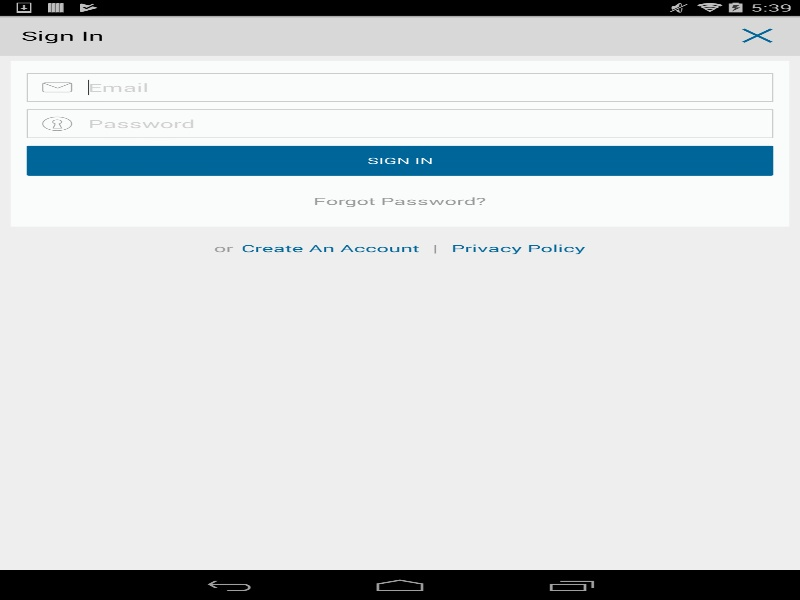Button: (26, 145, 773, 175)
Input: (26, 109, 773, 138), (26, 73, 773, 101)
